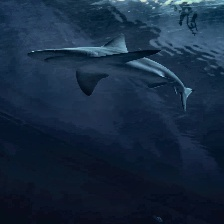shark: (76, 69, 110, 96)
